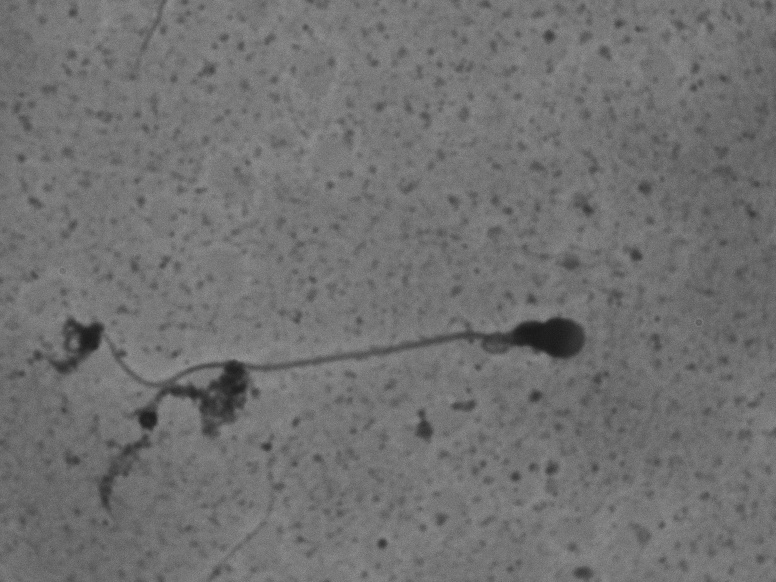Abnormal: (61, 243, 621, 423)
